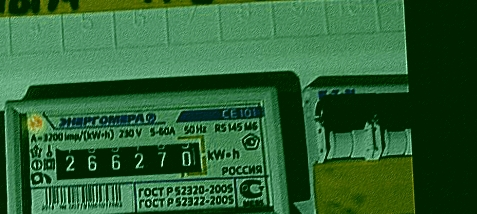0: (179, 147, 191, 168)
2: (62, 151, 77, 173), (132, 150, 145, 170)
6: (85, 152, 98, 173), (109, 151, 122, 171)
7: (155, 148, 168, 168)
screen: (41, 127, 217, 192)
